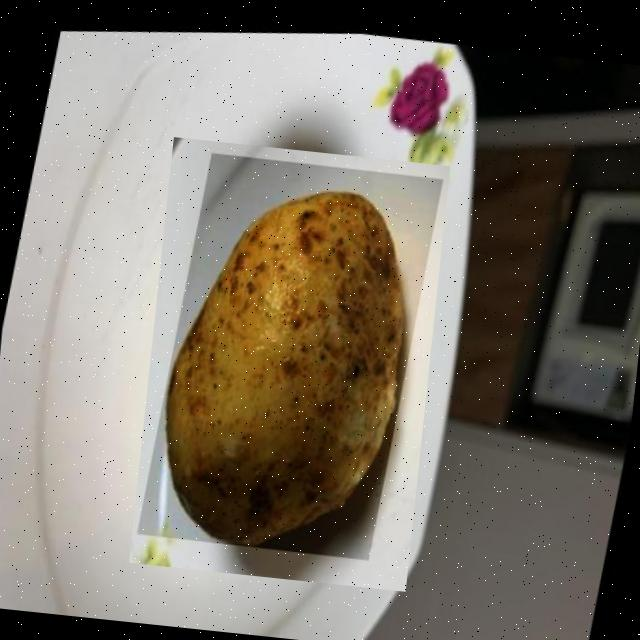Potato: (129, 135, 450, 590)
